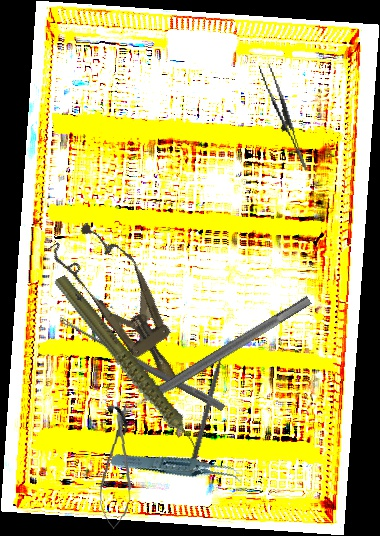Fixation Ring: (105, 285, 320, 437)
Handpiece: (51, 254, 203, 481)
Micro Scissor: (96, 401, 139, 530)
Pusher: (189, 341, 230, 466)
Speculum: (46, 212, 201, 397)
Surgical Spoon: (56, 315, 227, 412)
Tissue Forceps: (109, 427, 245, 511), (258, 61, 308, 175)
